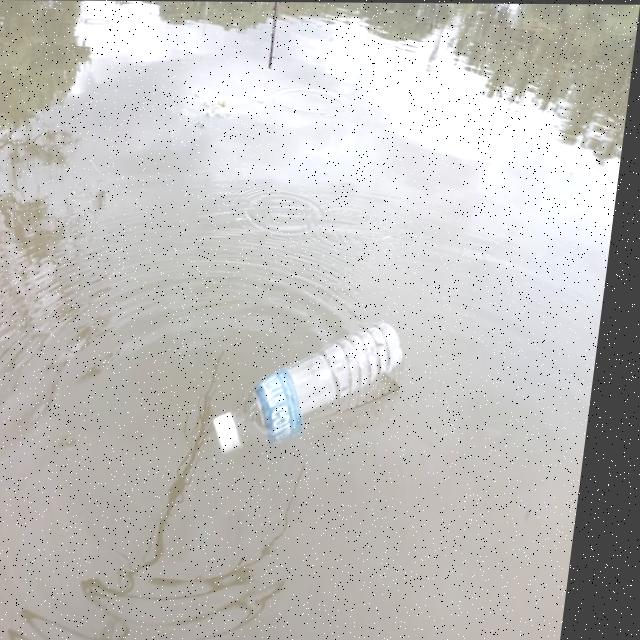waterbottle: (186, 307, 441, 501)
